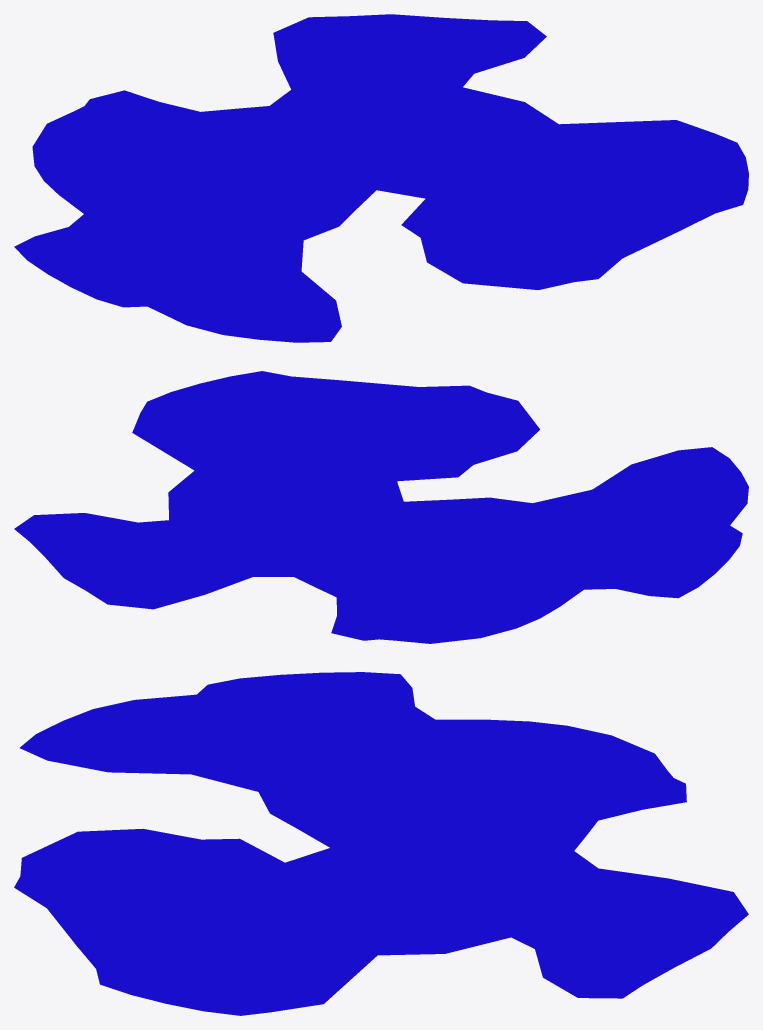
Rendered from splat.glb.
The picture shows the model from 3 angles, top to bottom: view 1: azimuth 30°, elevation 25°; view 2: azimuth 150°, elevation 25°; view 3: azimuth 270°, elevation 25°; orthographic projection. The views are drawn at different scales.
Parts seen in each view (by area): view 1: Circle; view 2: Circle; view 3: Circle.
Boxes of the visible parts, x1,y1,x2,y2 form: Circle: [14, 14, 748, 342]; Circle: [14, 371, 748, 643]; Circle: [14, 672, 748, 1015].
Bounding box in the file's own units: 1.95 × 0 × 1.76.
